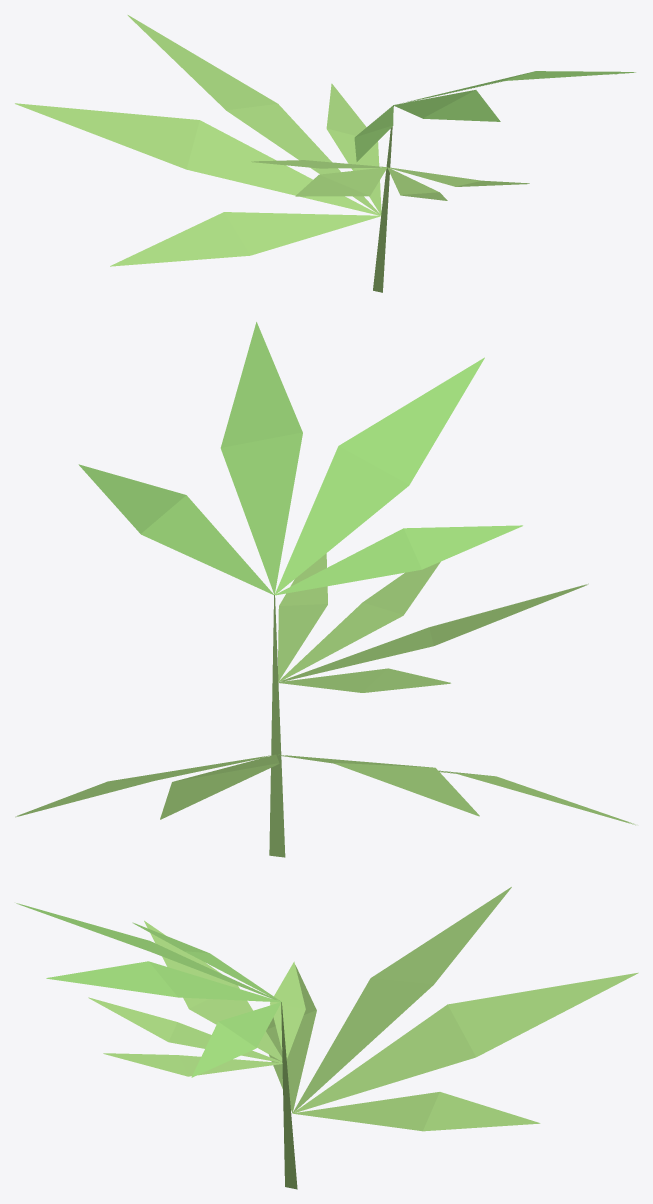
The model's file is Plant_i_TwoS_10.fbx.
3 views of the same model, one above another, from view 1: azimuth 30°, elevation 25°; view 2: azimuth 150°, elevation 25°; view 3: azimuth 270°, elevation 25° (orthographic). The views are drawn at different scales.
Parts seen in each view (by area): view 1: Plant_i_TwoS_10; view 2: Plant_i_TwoS_10; view 3: Plant_i_TwoS_10.
Part boxes in pixels (box(x1,y1,x2,y2)): Plant_i_TwoS_10: box(15, 15, 635, 292); Plant_i_TwoS_10: box(15, 322, 635, 857); Plant_i_TwoS_10: box(16, 887, 638, 1189).
Size of the model in its own units: 29.57 by 16.53 by 33.74.
